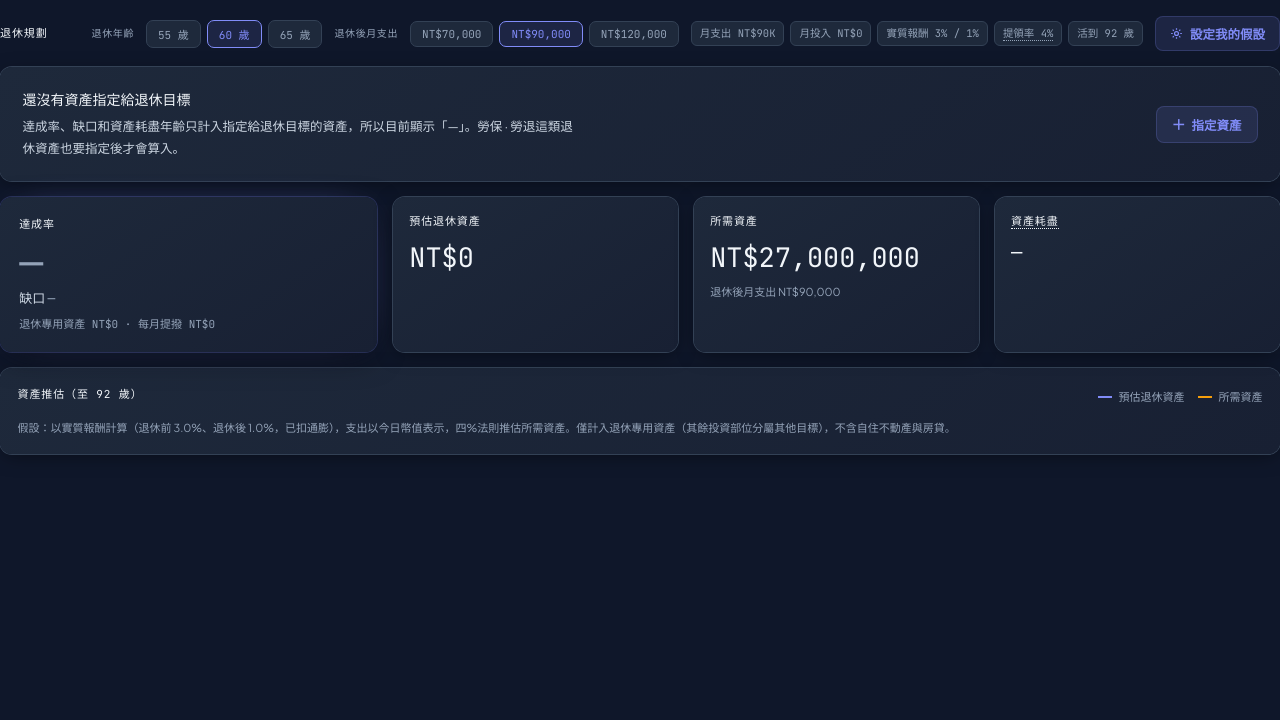
Test case: the retirement page around it › no longer offers a typed 退休專用資產 in the settings drawer — it's set by assigning
Click the button "設定我的假設" at (1218,34), box [1155,16,1279,51]
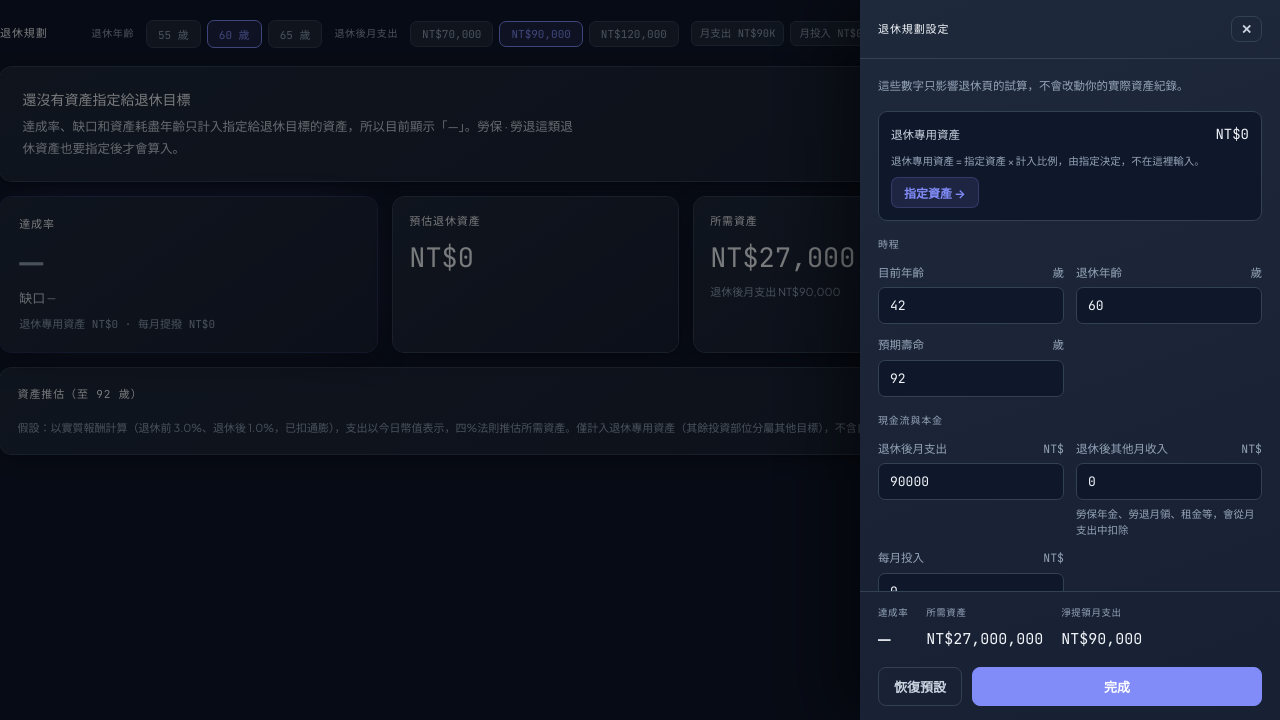
Now the text "退休專用資產 = 指定資產 × 計入比例，由指定決定，不在這裡輸入。" is shown, box [891,153,1249,169]
